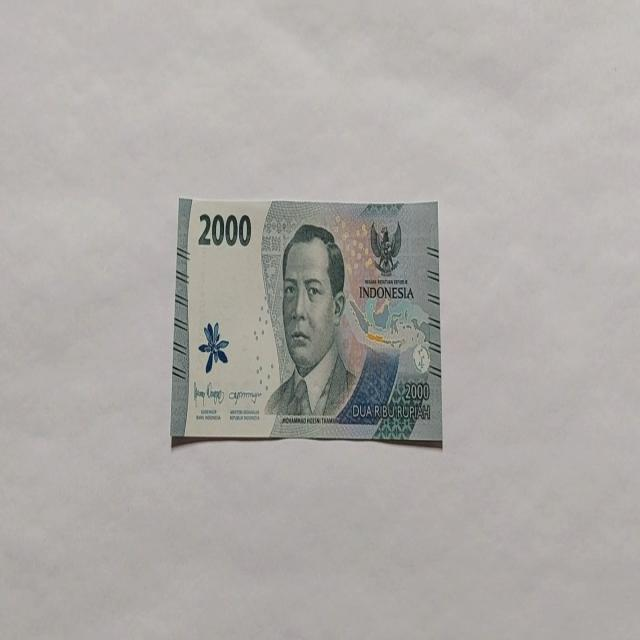dua ribu rupiah: (170, 196, 442, 446), (264, 222, 358, 420)
